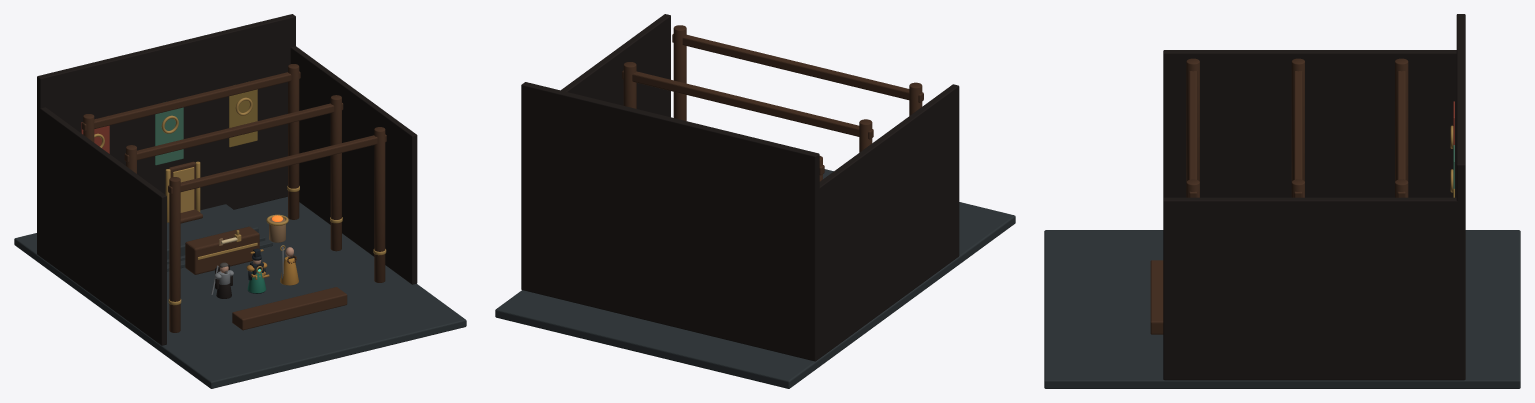
Rendered from judgment_hall.glb.
3 views of the same model, side by side, from view 1: azimuth 30°, elevation 25°; view 2: azimuth 150°, elevation 25°; view 3: azimuth 270°, elevation 25° (orthographic). The views are drawn at different scales.
Parts seen in each view (by area): view 1: JV_ENV_Floor-col, JV_ENV_BackWall-col, JV_ENV_WallL-col, JV_ENV_WallR-col, JV_PROP_EvidenceLedge, JV_PROP_JudgeDesk-col, JV_ENV_Beam_-2.5, JV_ENV_Beam_2.8, JV_ENV_Beam_8.0, JV_ENV_Pillar_7.2_-2.5-col, JV_ENV_Pillar_-7.2_-2.5-col, JV_ENV_Dais-col (+6 smaller); view 2: JV_ENV_BackWall-col, JV_ENV_WallL-col, JV_ENV_Floor-col, JV_ENV_WallR-col, JV_ENV_Beam_2.8, JV_ENV_Beam_-2.5, JV_ENV_Pillar_7.2_-2.5-col, JV_ENV_Pillar_7.2_2.8-col; view 3: JV_ENV_WallR-col, JV_ENV_WallL-col, JV_ENV_Floor-col, JV_ENV_BackWall-col, JV_PROP_EvidenceLedge, JV_ENV_Beam_-2.5, JV_ENV_Beam_2.8, JV_ENV_Beam_8.0, JV_ENV_Pillar_-7.2_2.8-col, JV_ENV_Pillar_-7.2_8.0-col, JV_ENV_Pillar_-7.2_-2.5-col.
Part boxes in pixels (left/top/right/bottom): JV_ENV_Floor-col: left=14, top=196, right=466, bottom=388; JV_ENV_BackWall-col: left=37, top=14, right=295, bottom=256; JV_ENV_WallL-col: left=39, top=107, right=166, bottom=345; JV_ENV_WallR-col: left=290, top=46, right=417, bottom=284; JV_PROP_EvidenceLedge: left=232, top=287, right=347, bottom=330; JV_PROP_JudgeDesk-col: left=185, top=226, right=259, bottom=274; JV_ENV_Beam_-2.5: left=168, top=134, right=386, bottom=194; JV_ENV_Beam_2.8: left=124, top=103, right=343, bottom=162; JV_ENV_Beam_8.0: left=82, top=71, right=300, bottom=131; JV_ENV_Pillar_7.2_-2.5-col: left=374, top=127, right=385, bottom=282; JV_ENV_Pillar_-7.2_-2.5-col: left=169, top=177, right=180, bottom=332; JV_ENV_Dais-col: left=167, top=204, right=258, bottom=259; JV_ENV_BackWall-col: left=521, top=82, right=819, bottom=361; JV_ENV_WallL-col: left=818, top=84, right=959, bottom=358; JV_ENV_Floor-col: left=495, top=169, right=1015, bottom=388; JV_ENV_WallR-col: left=561, top=14, right=670, bottom=117; JV_ENV_Beam_2.8: left=622, top=70, right=873, bottom=139; JV_ENV_Beam_-2.5: left=672, top=34, right=923, bottom=102; JV_ENV_Pillar_7.2_-2.5-col: left=673, top=25, right=686, bottom=120; JV_ENV_Pillar_7.2_2.8-col: left=623, top=62, right=636, bottom=108; JV_ENV_WallR-col: left=1163, top=197, right=1459, bottom=380; JV_ENV_WallL-col: left=1163, top=50, right=1456, bottom=197; JV_ENV_Floor-col: left=1044, top=230, right=1520, bottom=388; JV_ENV_BackWall-col: left=1456, top=14, right=1465, bottom=380; JV_PROP_EvidenceLedge: left=1150, top=260, right=1163, bottom=334; JV_ENV_Beam_-2.5: left=1189, top=71, right=1197, bottom=197; JV_ENV_Beam_2.8: left=1294, top=71, right=1302, bottom=197; JV_ENV_Beam_8.0: left=1397, top=71, right=1405, bottom=197; JV_ENV_Pillar_-7.2_2.8-col: left=1291, top=58, right=1304, bottom=181; JV_ENV_Pillar_-7.2_8.0-col: left=1395, top=58, right=1408, bottom=181; JV_ENV_Pillar_-7.2_-2.5-col: left=1186, top=58, right=1199, bottom=181.
Bounding box in the file's own units: 18 × 12.5 × 24.
